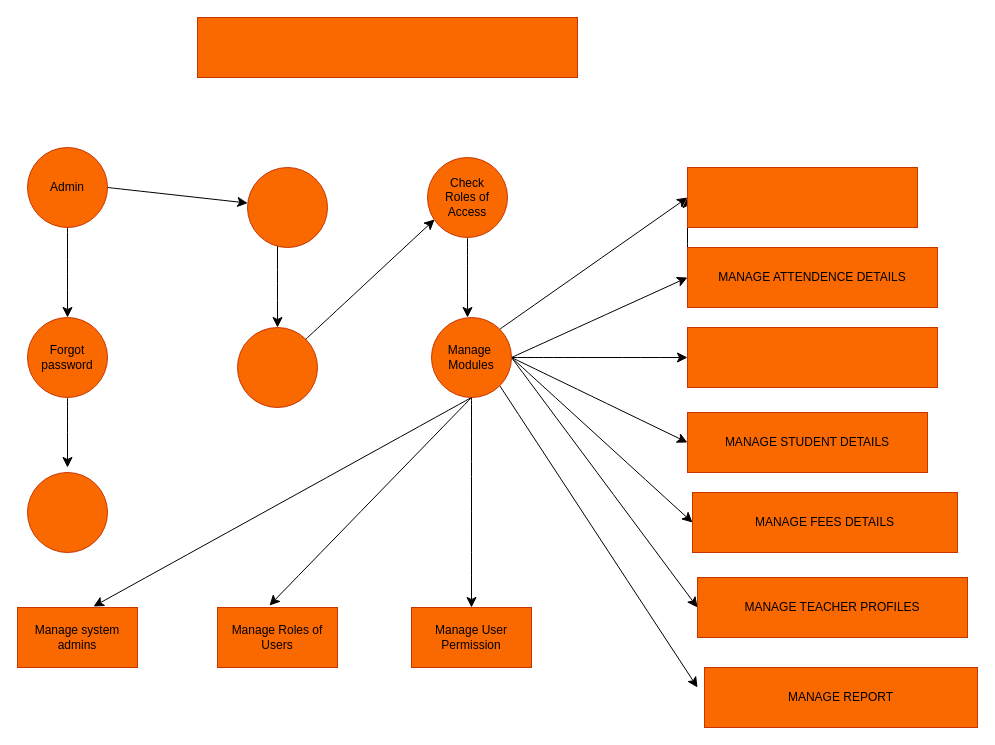
Some shapes in this 995 by 745 pixel diagram are drawn without their labels. Each missing label, with the centre of its shape:
"Check Credentials" belongs at pixel 277 367.
"Login to System" belongs at pixel 287 207.
"MANAGE CLASS DETAILS" belongs at pixel 812 357.
"MANAGE TIMETABLE DETAILS" belongs at pixel 802 197.
"Send Email to User" belongs at pixel 67 512.
"STUDENT INFORMATION SYSTEM" belongs at pixel 387 47.
